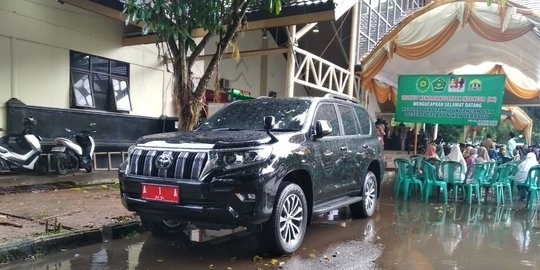plate: (141, 183, 180, 202)
